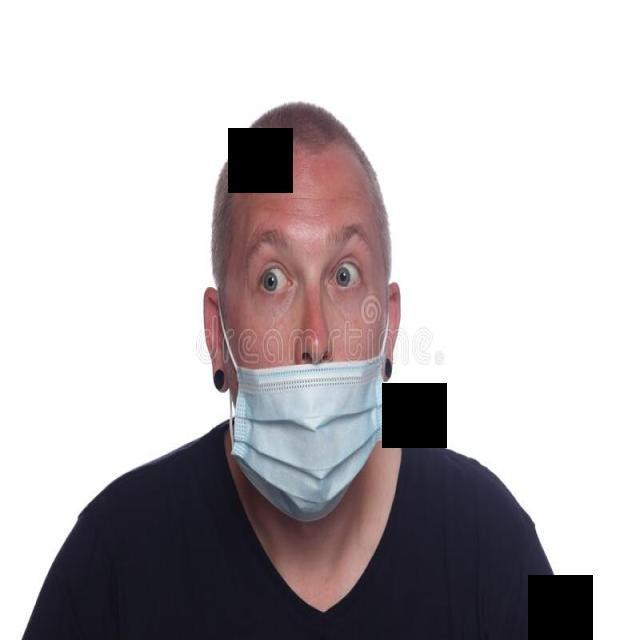hairnet: (205, 310, 401, 527)
